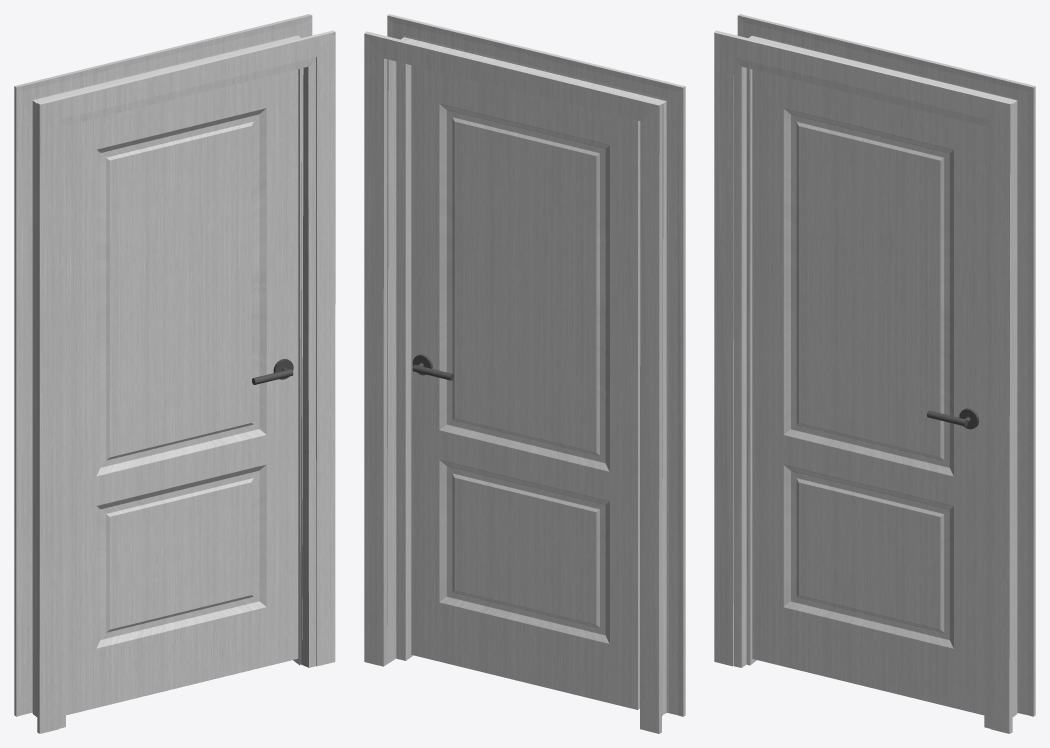
Rendered from door.FBX.
3 renders of one model, left to right at view 1: azimuth 30°, elevation 25°; view 2: azimuth 150°, elevation 25°; view 3: azimuth 330°, elevation 25°, orthographic.
Visible parts, largest first — view 1: door, frame door; view 2: door, frame door; view 3: door, frame door.
Part boxes in pixels (box(x1,y1,x2,y2)): door: box(66, 69, 298, 715); frame door: box(14, 14, 335, 733); door: box(411, 65, 640, 709); frame door: box(364, 14, 685, 733); door: box(752, 69, 984, 715); frame door: box(714, 14, 1035, 733).
Bounding box in the file's own units: 1.04 × 2.12 × 0.1676.
Materials: 2 (1 with a texture image).
